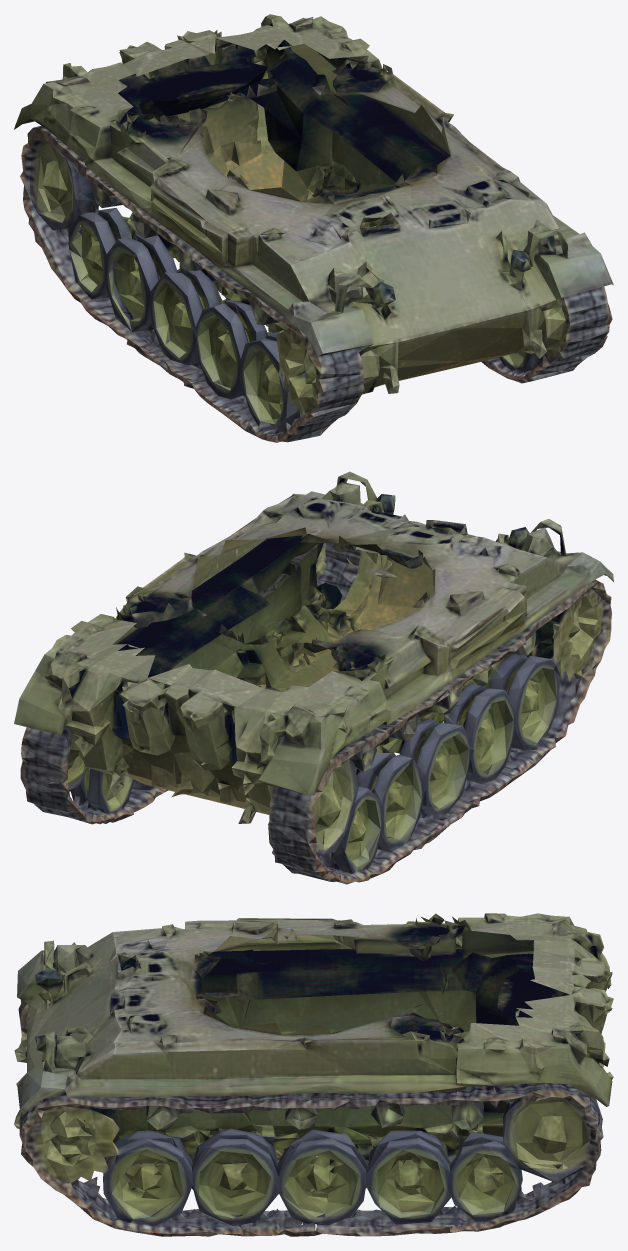
Rendered from chaffee_hull.obj.
The picture shows the model from 3 angles, top to bottom: view 1: azimuth 30°, elevation 25°; view 2: azimuth 150°, elevation 25°; view 3: azimuth 270°, elevation 25°; orthographic projection. The views are drawn at different scales.
Parts seen in each view (by area): view 1: chaffee_hull; view 2: chaffee_hull; view 3: chaffee_hull.
Part boxes in pixels (left/top/right/bottom): chaffee_hull: left=14, top=14, right=613, bottom=442; chaffee_hull: left=14, top=471, right=613, bottom=884; chaffee_hull: left=14, top=913, right=613, bottom=1236.
Size of the model in its own units: 2.81 by 1.8 by 4.94.
1 material, 1 textured.
